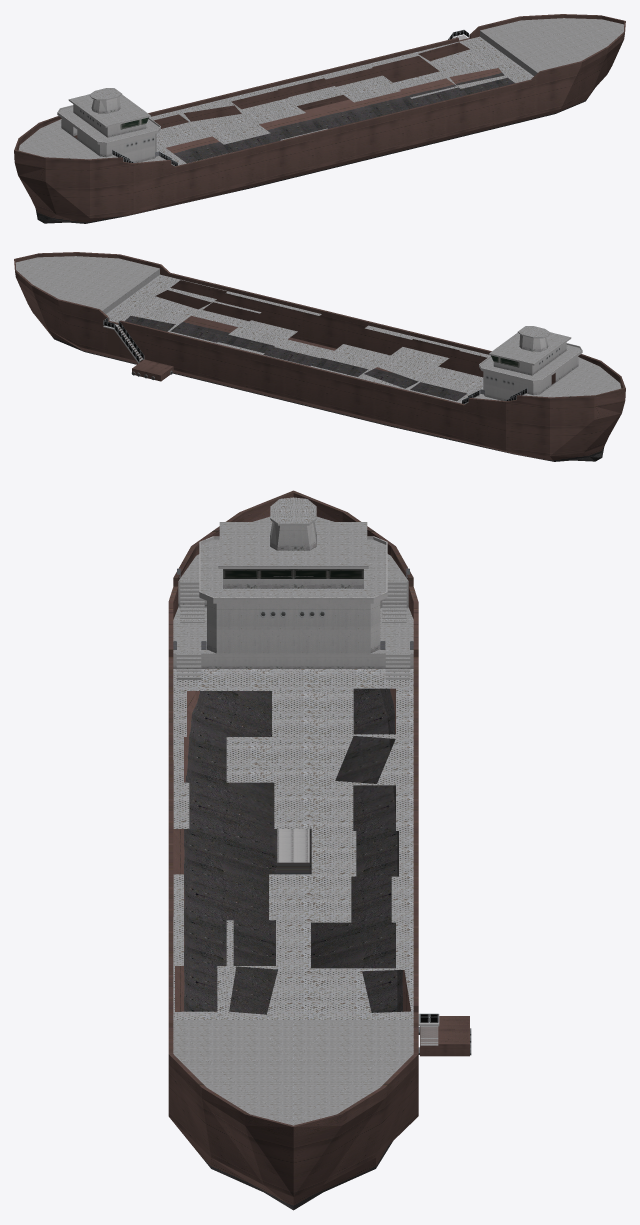
File: freighter_sfe.obj
The picture shows the model from 3 angles, top to bottom: view 1: azimuth 30°, elevation 25°; view 2: azimuth 150°, elevation 25°; view 3: azimuth 270°, elevation 25°; orthographic projection. The views are drawn at different scales.
Parts seen in each view (by area): view 1: freighter_sfe; view 2: freighter_sfe; view 3: freighter_sfe.
Part boxes in pixels (x1,y1,x2,y2): freighter_sfe: (14,14,625,223); freighter_sfe: (14,252,625,461); freighter_sfe: (168,490,471,1210).
Bounding box in the file's own units: 121 × 22.15 × 25.9.
12 materials, 12 textured.
